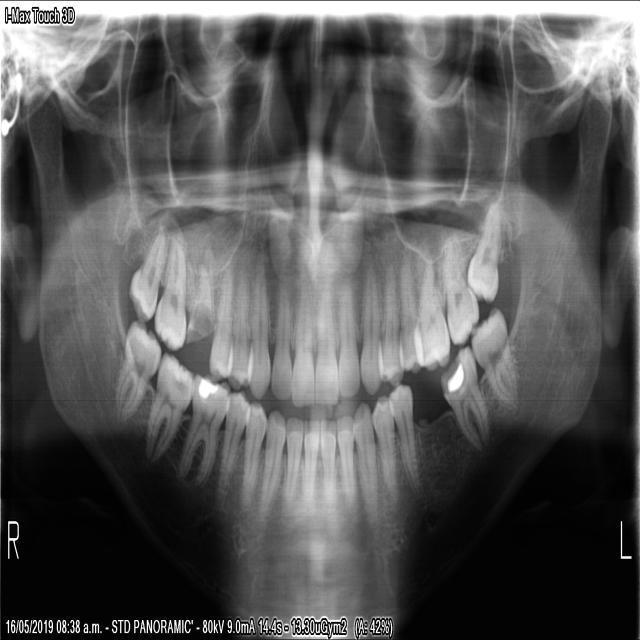LCD: (355, 399, 380, 527)
LCU: (360, 247, 382, 397)
LID: (335, 415, 357, 524), (320, 413, 338, 516)
LIU: (313, 251, 339, 405), (336, 254, 360, 407)
LMD: (469, 302, 523, 413), (437, 346, 493, 452)
LMU: (413, 241, 452, 376), (438, 227, 480, 351), (465, 194, 506, 305)
LPMD: (389, 379, 422, 493), (371, 393, 400, 507)
LPMU: (377, 246, 404, 388), (399, 244, 425, 380)
RCD: (255, 412, 287, 519)
RCU: (247, 243, 271, 397)
RID: (280, 413, 306, 510), (302, 418, 320, 521)
RIU: (291, 232, 314, 412), (270, 227, 292, 402)
RMD: (175, 369, 231, 499), (111, 308, 164, 427), (142, 349, 195, 468)
RMU: (152, 233, 189, 357), (128, 230, 168, 324), (186, 241, 215, 346)
RPMD: (214, 390, 248, 505), (237, 401, 269, 508)
RPMU: (208, 255, 233, 385), (228, 254, 248, 391)
